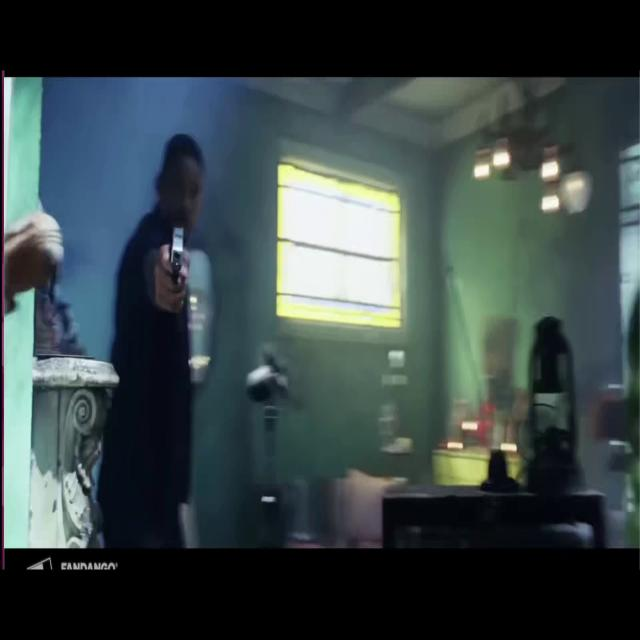weapons: (160, 210, 196, 314)
